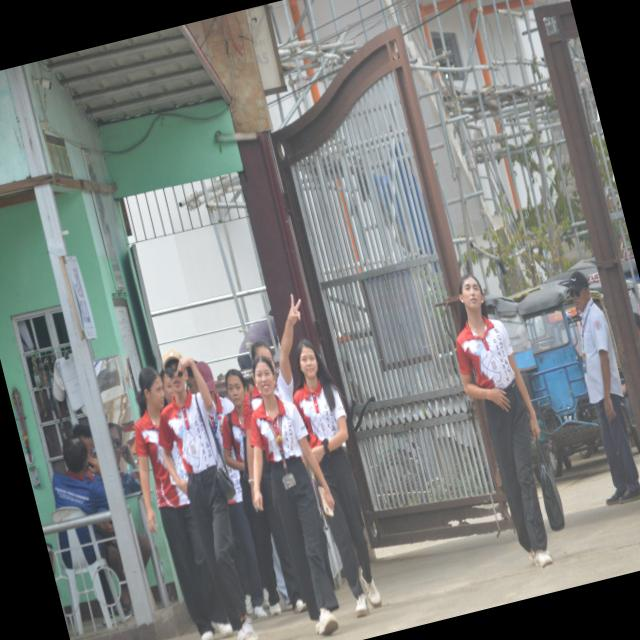person: (158, 349, 257, 639), (456, 275, 552, 567), (134, 368, 231, 639), (250, 357, 337, 635), (293, 340, 380, 617), (222, 370, 305, 615), (567, 271, 639, 505), (227, 467, 266, 619)
